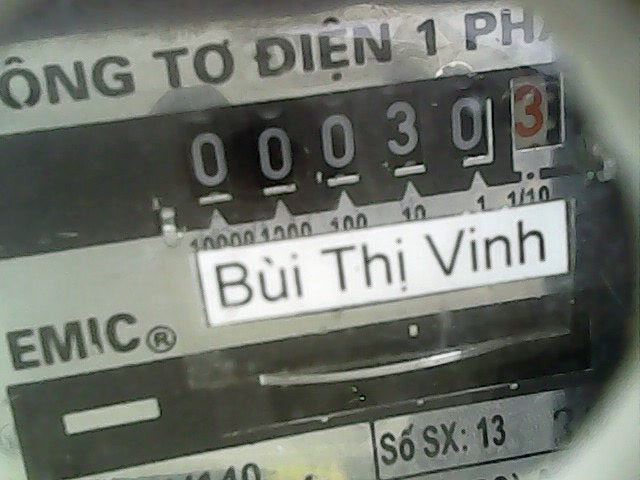phy_plate: (169, 65, 590, 217)
